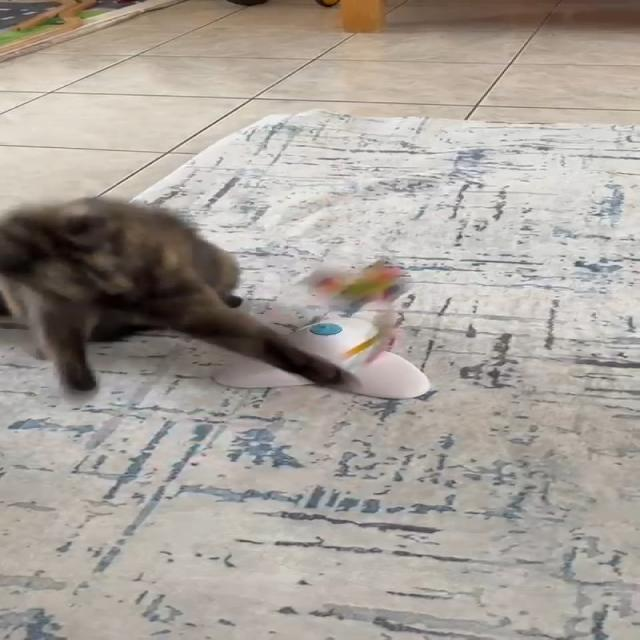authorized: (0, 195, 343, 392)
